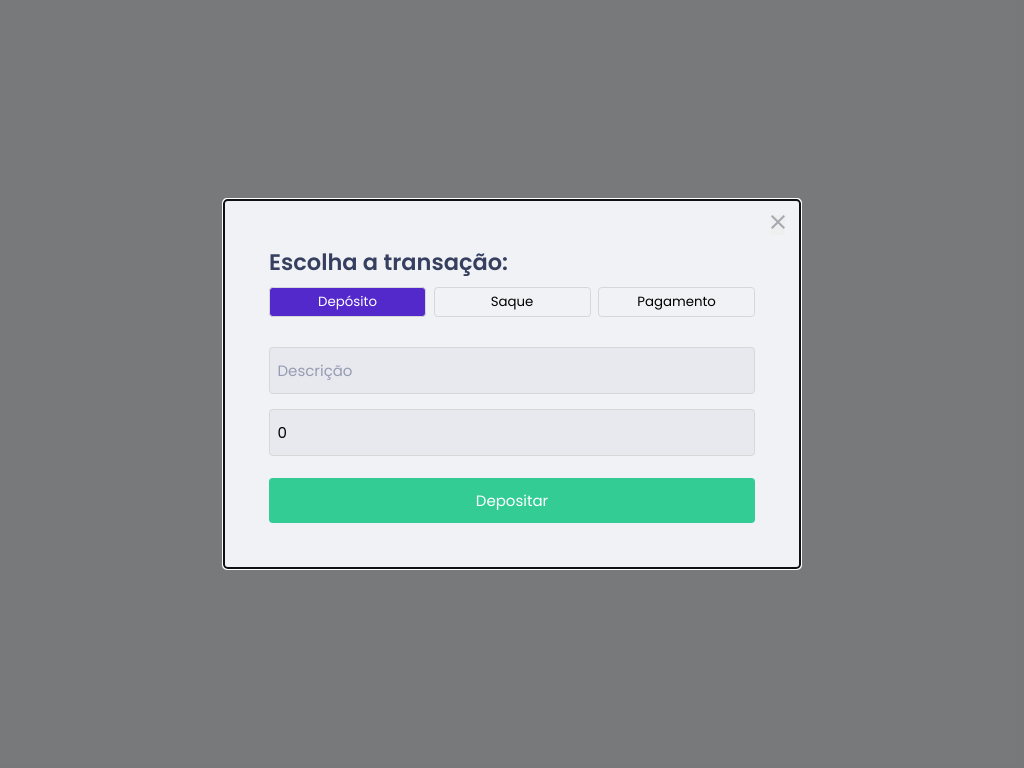
Test: given TransactionModal component › when transaction type buttons are clicked › Withdraw button, should render withdraw form
Click the button "Saque" at (512, 302), box [434,286,590,316]
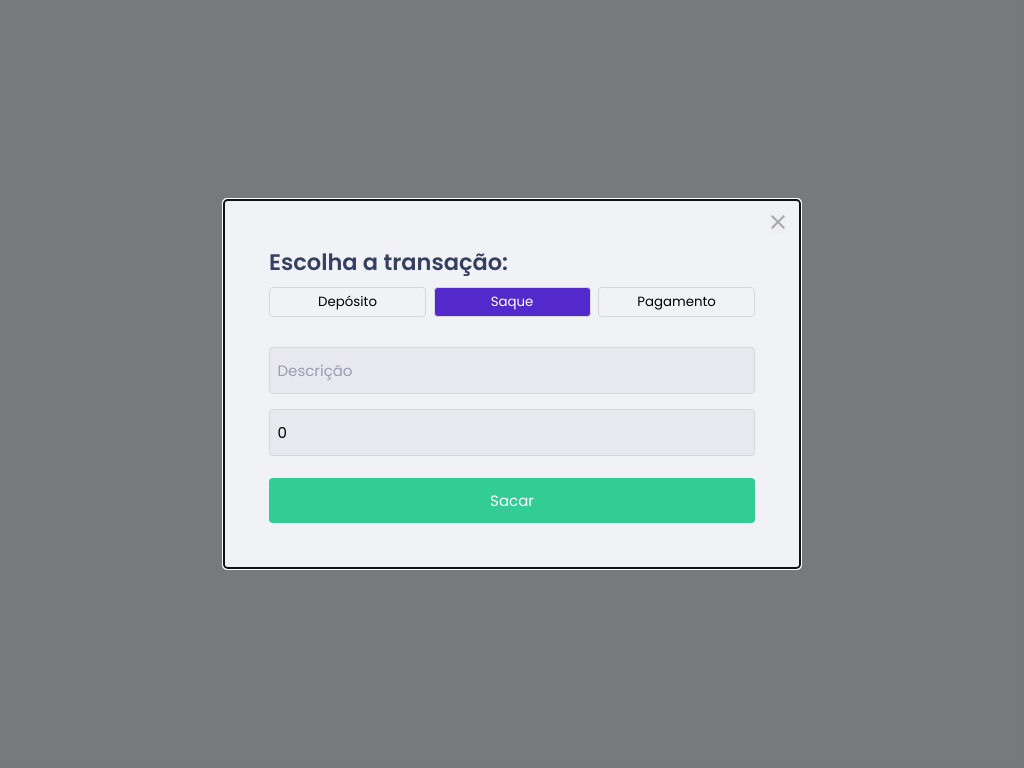
expect the form with test id "withdraw-form" is shown: met, box [269,332,755,523]
